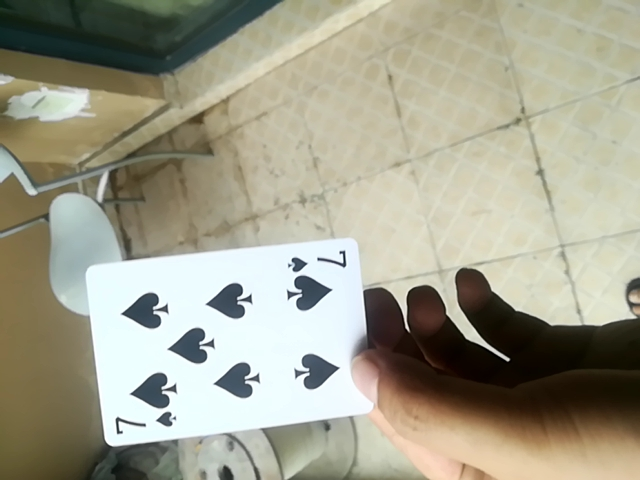ht 7: (83, 237, 373, 450)
